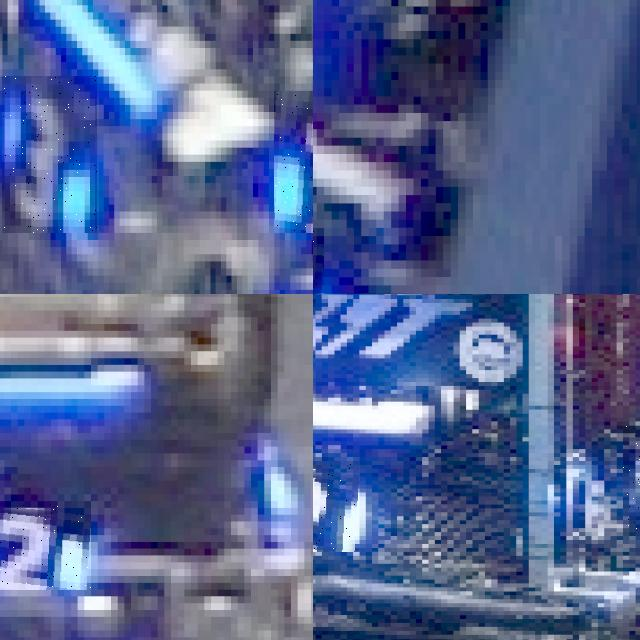B2: (0, 501, 91, 589), (313, 461, 359, 552), (623, 425, 640, 536)
B3: (2, 76, 98, 233), (274, 91, 313, 233)
